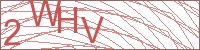2: (3, 18, 22, 47)
H: (57, 6, 78, 33)
V: (80, 15, 106, 45)
W: (29, 1, 62, 27)
